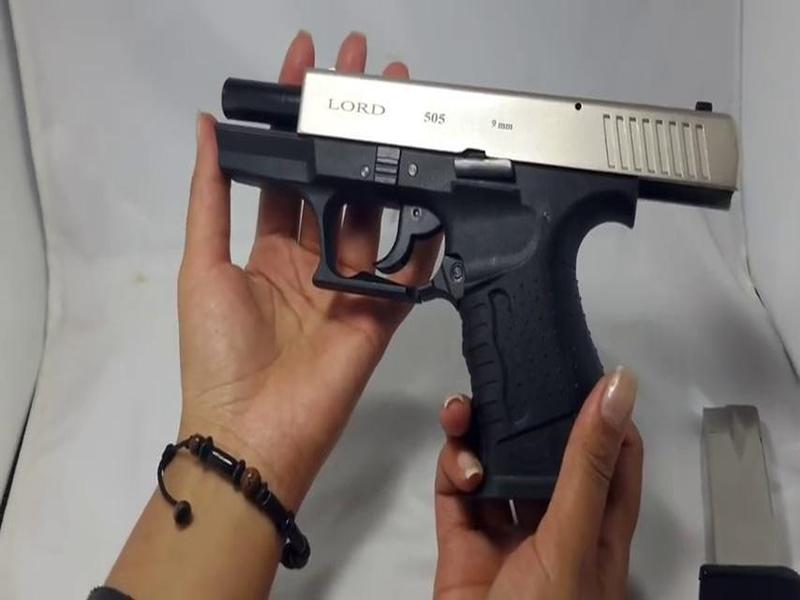Pistola: (176, 63, 737, 522)
